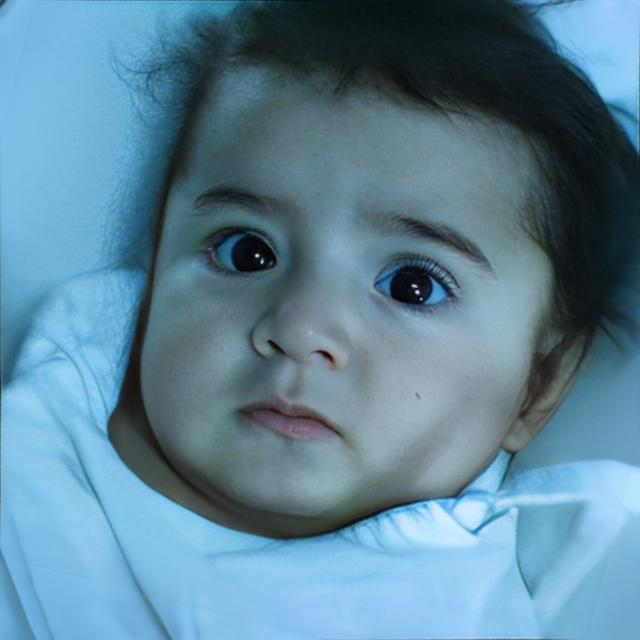Fear: (141, 80, 548, 510)
